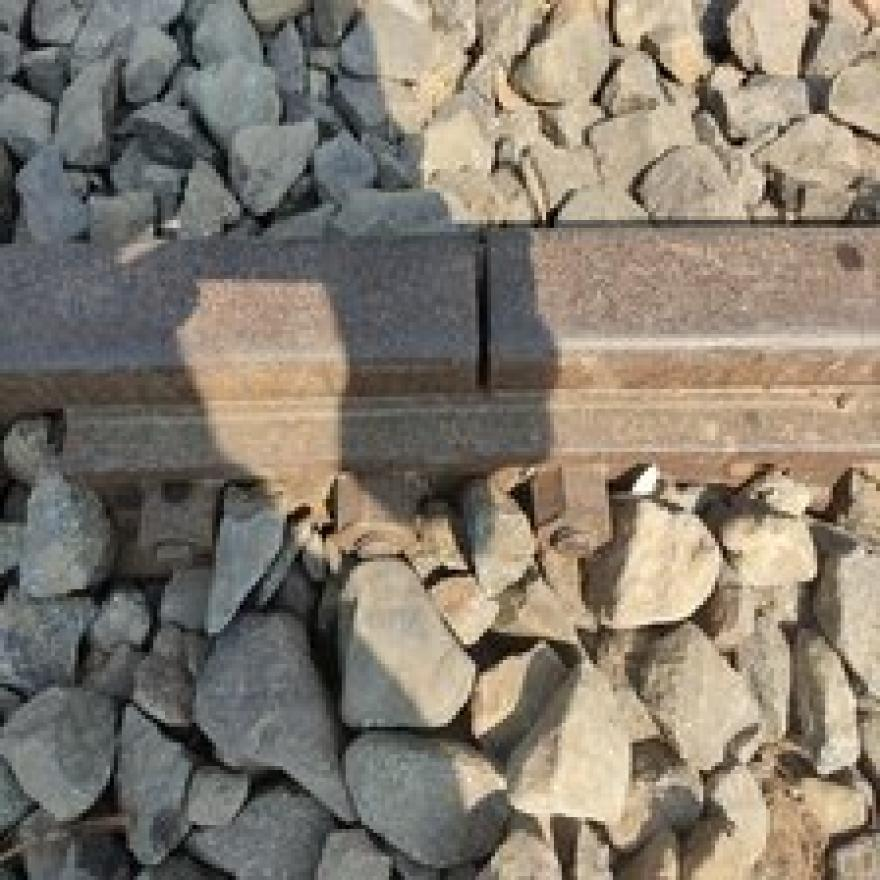railway-gap: (288, 123, 678, 492)
